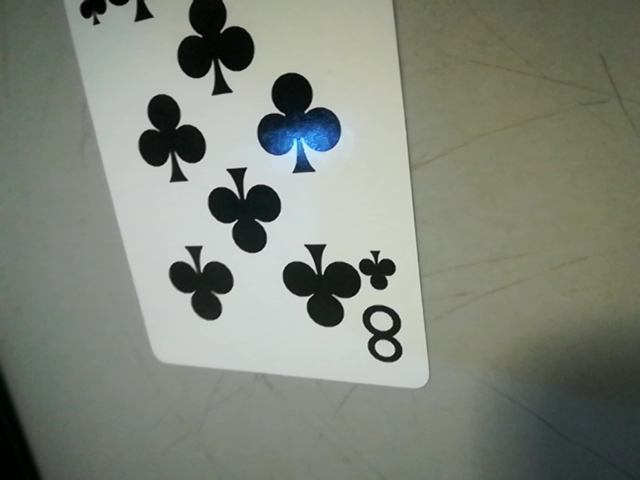mh 8: (352, 243, 418, 375)
